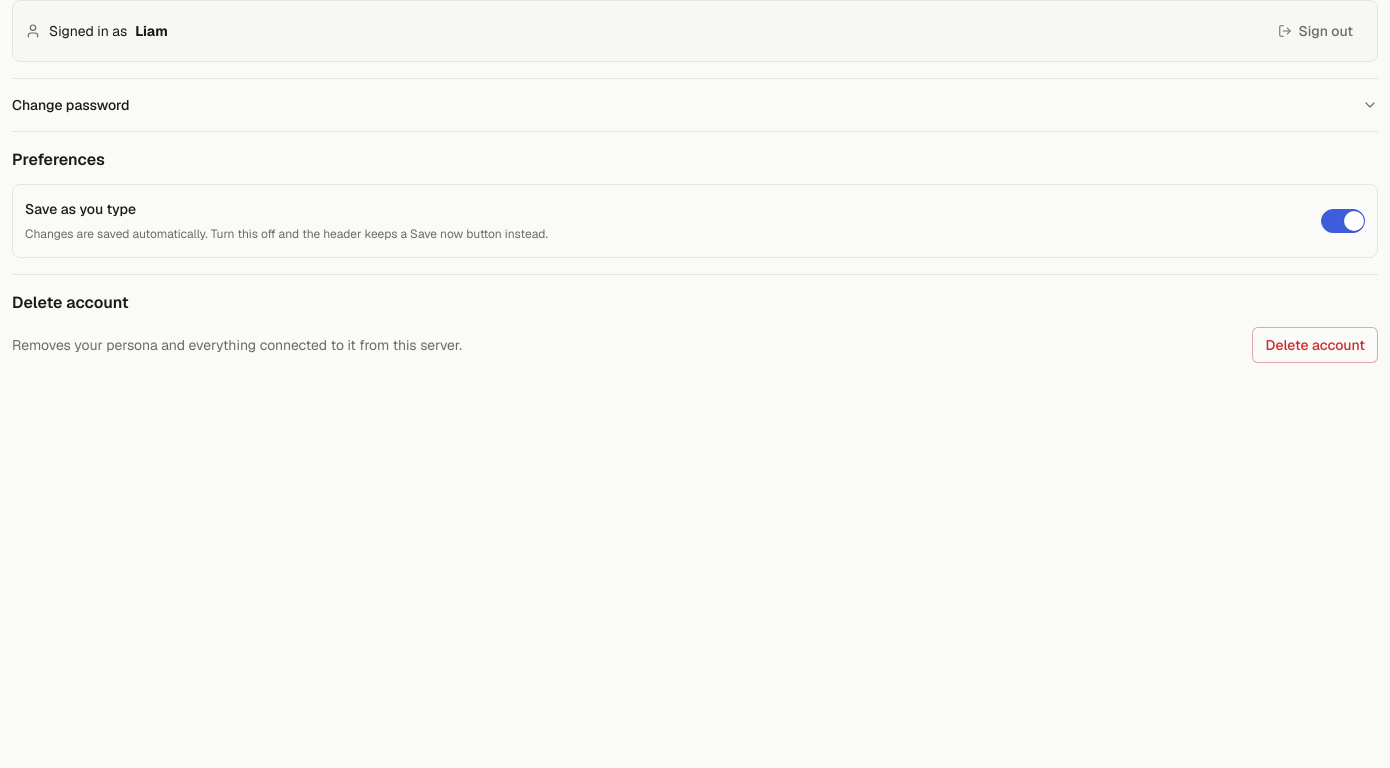
Test: changing the password › shows what the server said when it refuses
The width and height of the screenshot is (1390, 768).
Click the button "Change password": coordinates (71, 105) left=12, top=95, right=1378, bottom=115
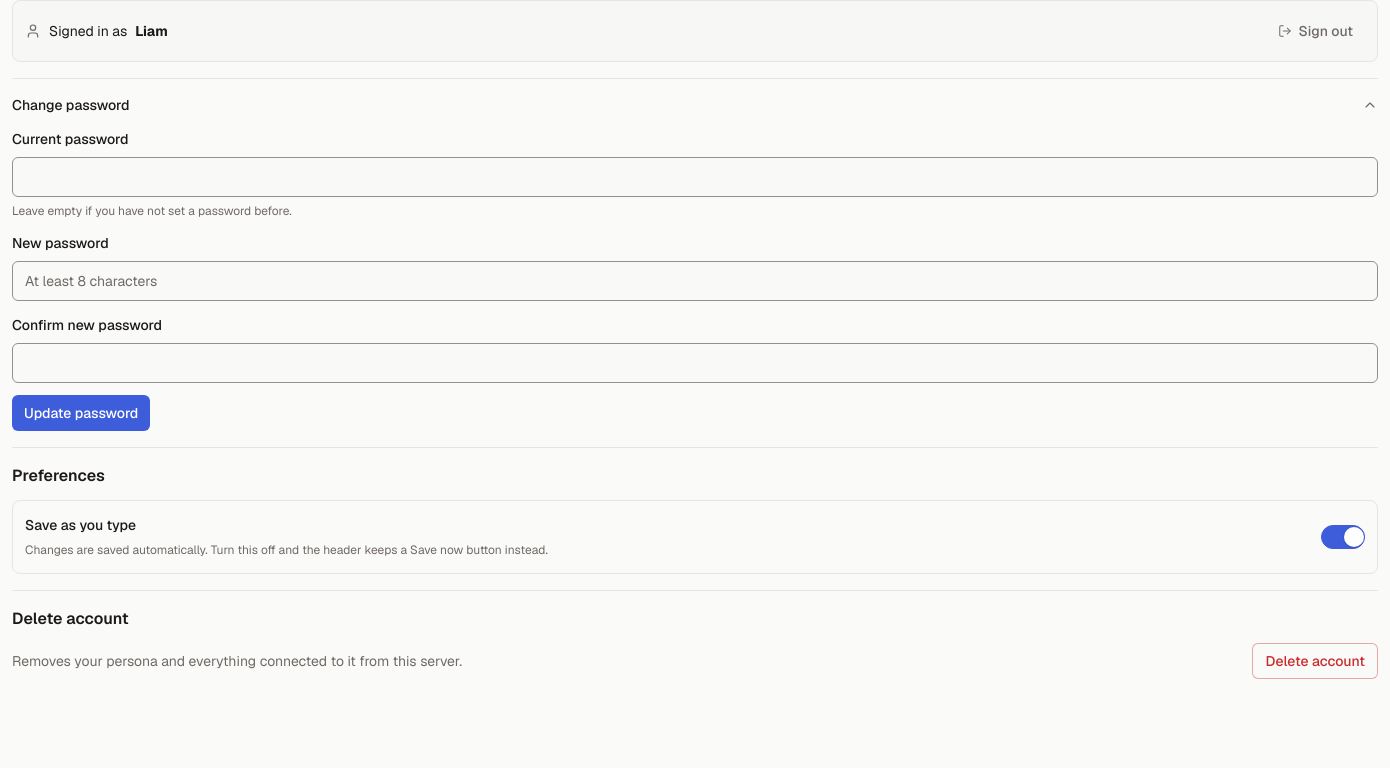
In the password field labelled "New password": coordinates (695, 281) left=12, top=261, right=1378, bottom=301, type "longenough1"
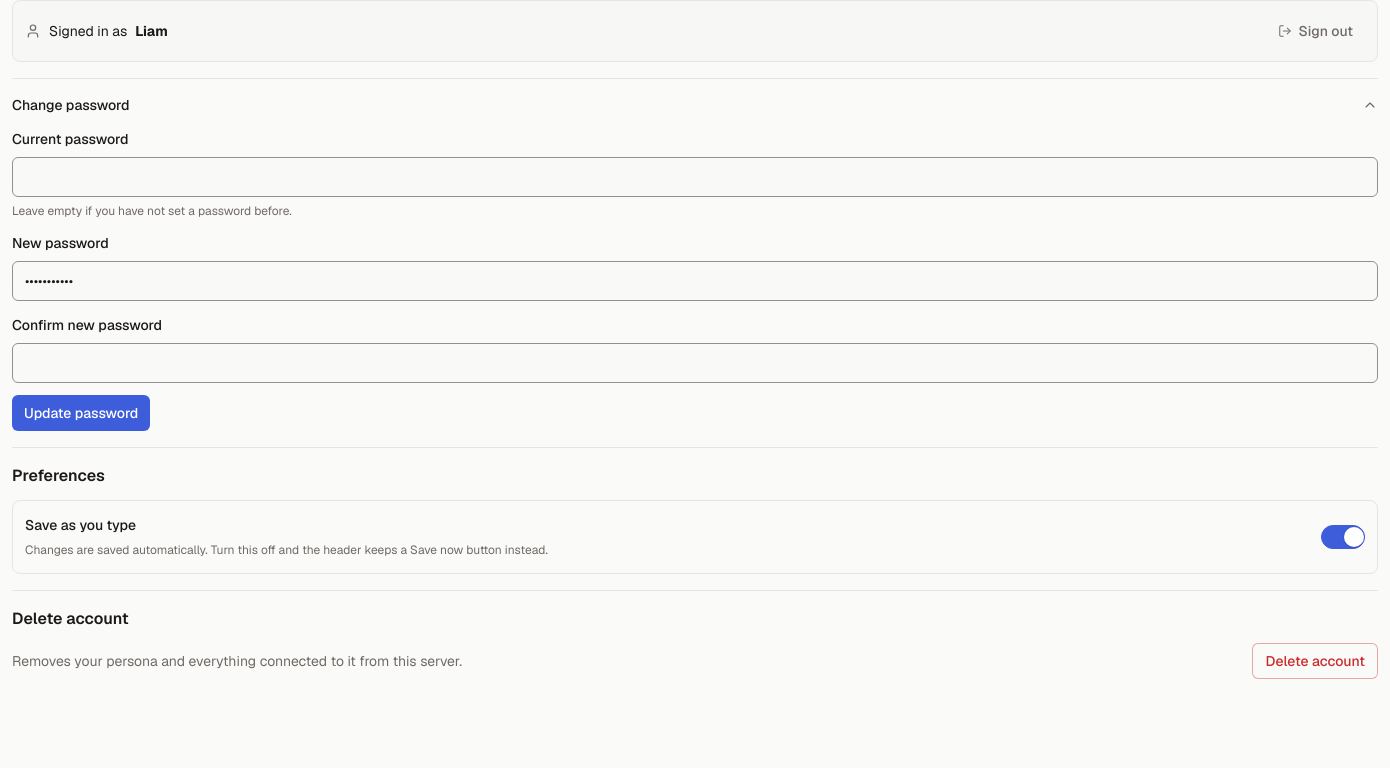
In the password field labelled "Confirm new password": coordinates (695, 363) left=12, top=343, right=1378, bottom=383, type "longenough1"
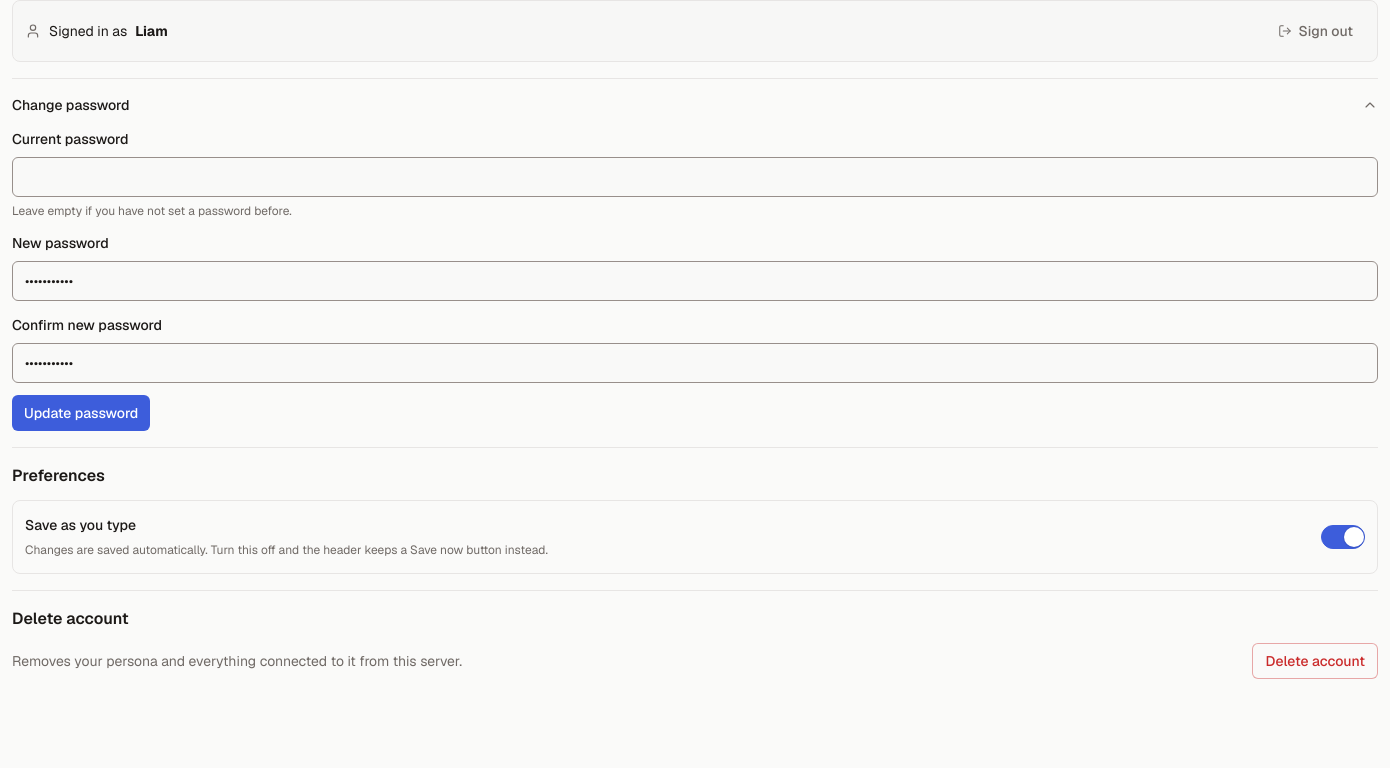
Click the button "Update password": coordinates (81, 413) left=12, top=395, right=150, bottom=431
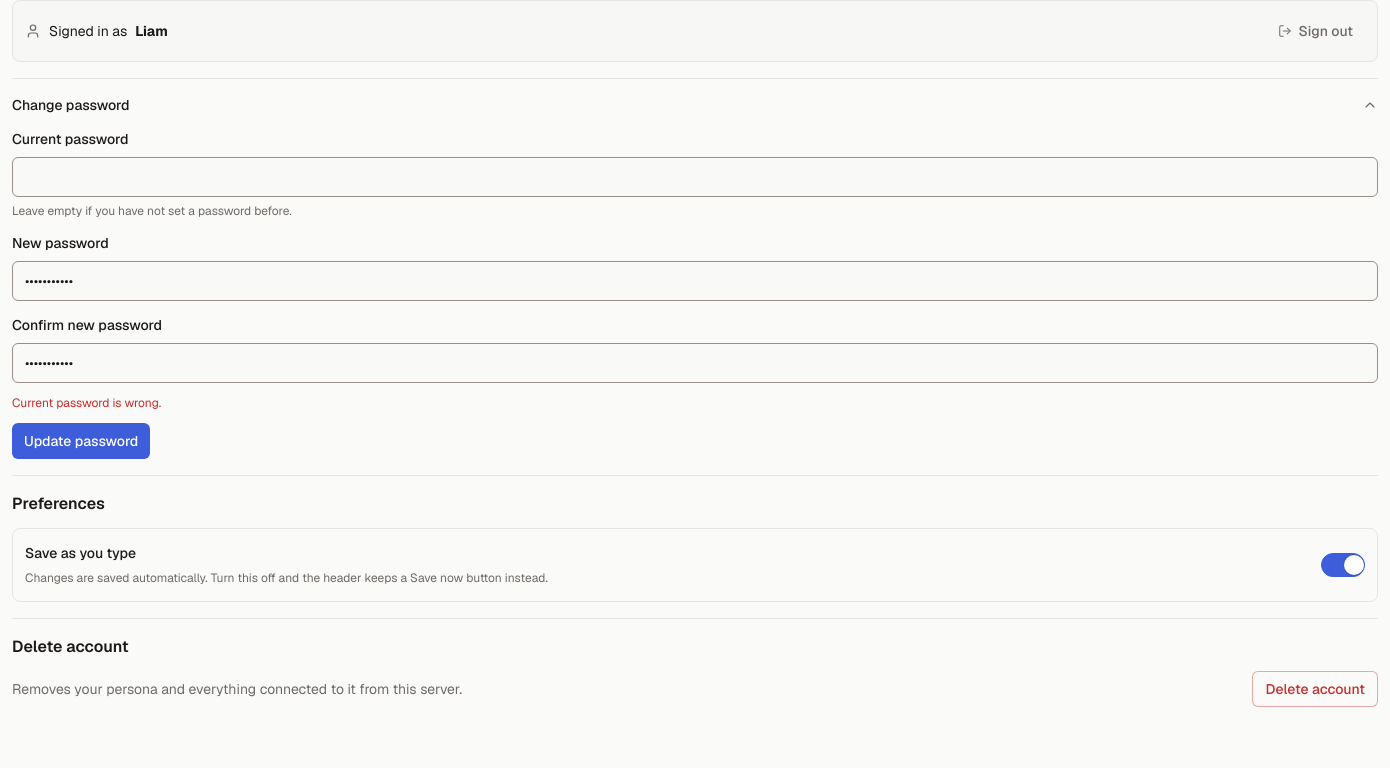
Result: the text "Current password is wrong." is shown at left=12, top=395, right=161, bottom=411
